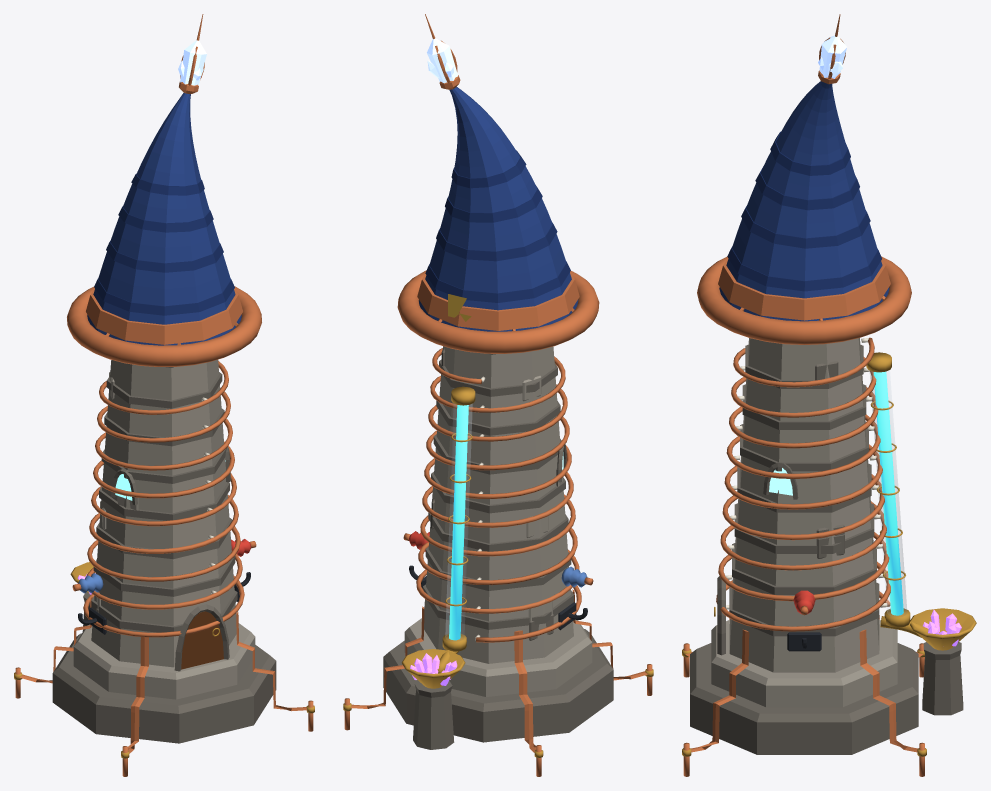
File: stormspire.glb
3 views of the same model, side by side, from view 1: azimuth 30°, elevation 25°; view 2: azimuth 150°, elevation 25°; view 3: azimuth 270°, elevation 25° (orthographic). The views are drawn at different scales.
Visible parts, largest first — view 1: Stormspire_Stone, Stormspire_Copper, Stormspire_StoneDark, Hat, Stormspire_SlateDark, Door, Capacitor_Crystal; view 2: Stormspire_Stone, Stormspire_Copper, Stormspire_StoneDark, Hat, Stormspire_SlateDark, ChargeColumn_Glass, ChargeColumn_Core, Stormspire_Brass, Capacitor_Crystal, Hopper_Crystals; view 3: Stormspire_Stone, Stormspire_StoneDark, Stormspire_Copper, Hat, Stormspire_SlateDark, ChargeColumn_Glass, Stormspire_Brass, ChargeColumn_Core, Capacitor_Crystal, Stormspire_Steel, Hopper_Crystals, Stormspire_Ceramic.
Boxes of the visible parts, x1,y1,x2,y2 form: Stormspire_Stone: [73, 359, 255, 699]; Stormspire_Copper: [15, 286, 313, 776]; Stormspire_StoneDark: [52, 367, 276, 743]; Hat: [87, 93, 241, 345]; Stormspire_SlateDark: [94, 173, 234, 315]; Door: [181, 611, 223, 669]; Capacitor_Crystal: [178, 40, 206, 85]; Stormspire_Stone: [404, 346, 592, 696]; Stormspire_Copper: [344, 270, 652, 776]; Stormspire_StoneDark: [383, 348, 613, 749]; Hat: [418, 87, 578, 331]; Stormspire_SlateDark: [425, 150, 570, 302]; ChargeColumn_Glass: [445, 404, 472, 640]; ChargeColumn_Core: [449, 405, 468, 640]; Stormspire_Brass: [343, 386, 653, 757]; Capacitor_Crystal: [427, 38, 457, 83]; Hopper_Crystals: [410, 653, 457, 685]; Stormspire_Stone: [711, 338, 897, 707]; Stormspire_StoneDark: [690, 344, 963, 754]; Stormspire_Copper: [683, 256, 924, 776]; Hat: [719, 81, 889, 321]; Stormspire_SlateDark: [727, 131, 881, 291]; ChargeColumn_Glass: [870, 370, 906, 616]; Stormspire_Brass: [682, 352, 976, 756]; ChargeColumn_Core: [873, 371, 903, 615]; Capacitor_Crystal: [818, 35, 846, 78]; Stormspire_Steel: [787, 632, 821, 651]; Hopper_Crystals: [923, 609, 961, 646]; Stormspire_Ceramic: [725, 338, 887, 609].
Size of the model in its own units: 2.87 by 9.58 by 3.45.
